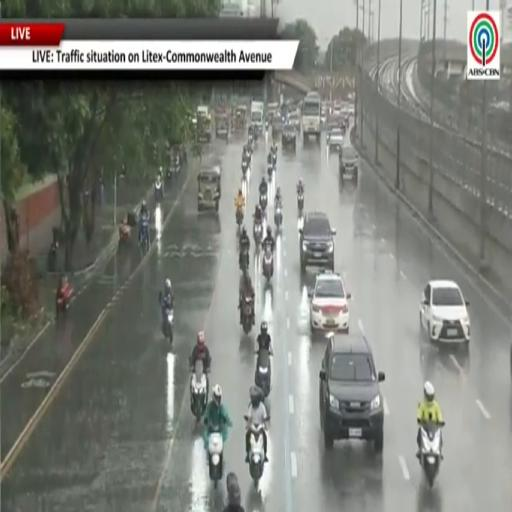bus: (301, 92, 321, 142)
car: (320, 334, 384, 452), (420, 280, 470, 343), (310, 272, 351, 333), (300, 212, 335, 273), (339, 144, 359, 183), (327, 127, 344, 151), (282, 123, 296, 150), (288, 112, 300, 131), (272, 116, 282, 134)
jeepney: (198, 166, 220, 212), (197, 106, 211, 142), (233, 105, 247, 132), (216, 112, 229, 138)
motorcycle: (420, 422, 444, 487), (249, 424, 266, 489), (191, 360, 208, 423), (209, 429, 223, 488), (255, 350, 270, 397), (56, 282, 73, 315), (242, 297, 254, 334), (262, 245, 273, 281), (47, 240, 58, 273), (163, 309, 173, 343), (140, 219, 149, 250), (254, 222, 263, 247), (240, 247, 249, 271), (274, 204, 282, 231), (154, 181, 163, 203), (259, 194, 267, 212), (236, 208, 243, 228), (297, 194, 303, 216), (242, 159, 248, 180), (267, 164, 273, 181), (272, 152, 277, 172)
truck: (251, 101, 264, 134)
